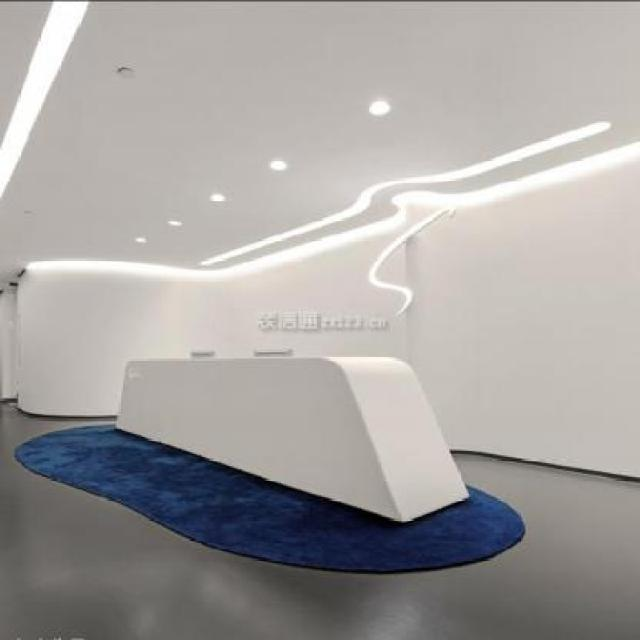frontdesk: (112, 343, 477, 530)
